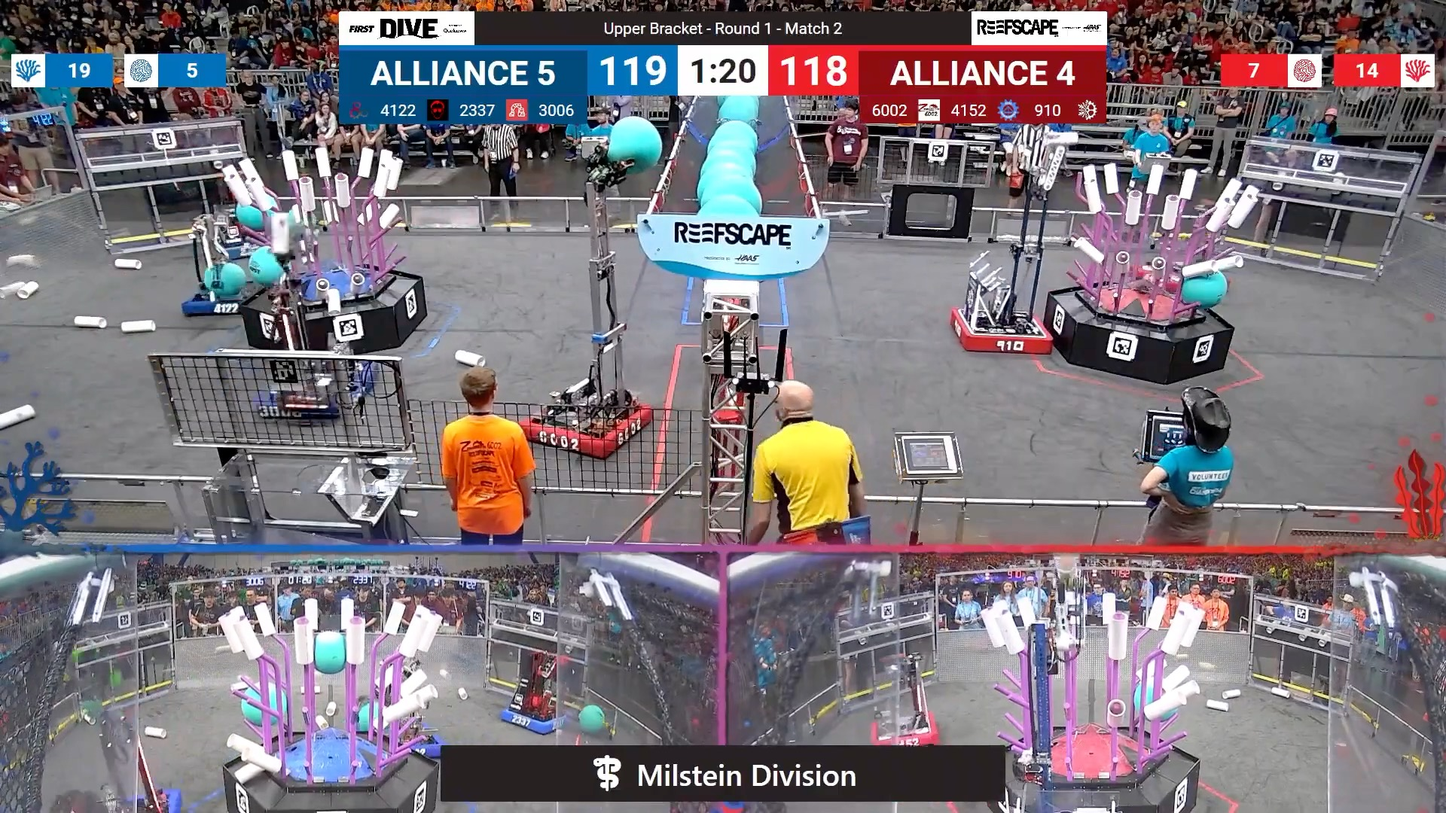bumpers: (512, 394, 657, 458), (258, 358, 377, 424), (946, 303, 1062, 359), (66, 783, 188, 812), (864, 706, 944, 749), (178, 280, 262, 318), (493, 702, 579, 738)
